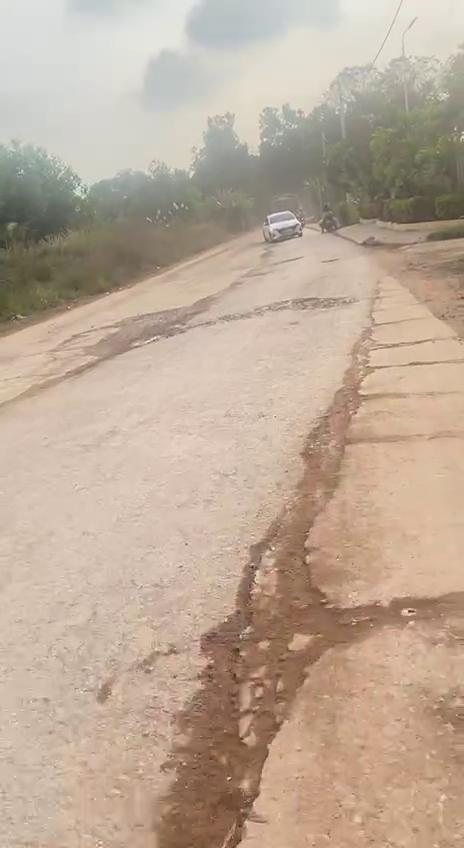pothole: (163, 510, 349, 848)
